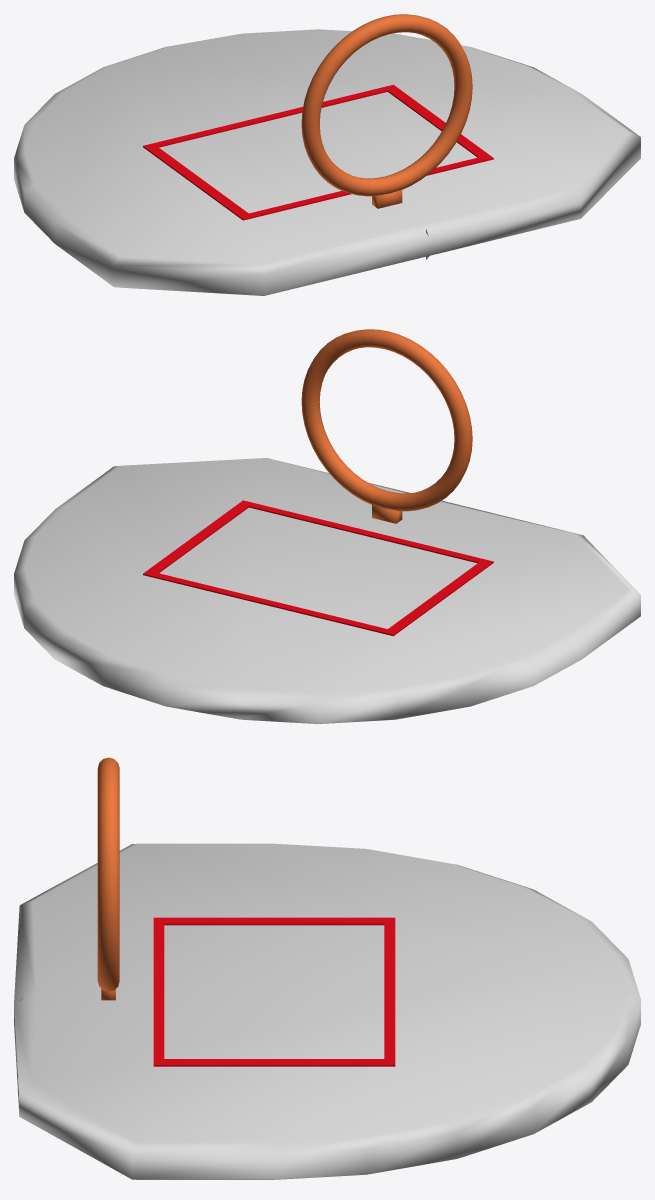
The model's file is Basketball Hoop 1.fbx.
3 views of the same model, one above another, from view 1: azimuth 30°, elevation 25°; view 2: azimuth 150°, elevation 25°; view 3: azimuth 270°, elevation 25° (orthographic). The views are drawn at different scales.
Visible parts, largest first — view 1: Backboard, Hoop, Cube; view 2: Backboard, Hoop, Cube; view 3: Backboard, Cube, Hoop.
Boxes of the visible parts, x1=… form: Backboard: x1=14, y1=29, x2=640, y2=295; Hoop: x1=301, y1=14, x2=472, y2=208; Cube: x1=143, y1=84, x2=493, y2=220; Backboard: x1=14, y1=458, x2=640, y2=723; Hoop: x1=301, y1=329, x2=472, y2=523; Cube: x1=143, y1=500, x2=493, y2=636; Backboard: x1=14, y1=843, x2=640, y2=1179; Cube: x1=153, y1=917, x2=395, y2=1066; Hoop: x1=97, y1=757, x2=119, y2=1000.
Bounding box in the file's own units: 200 × 78.92 × 171.
